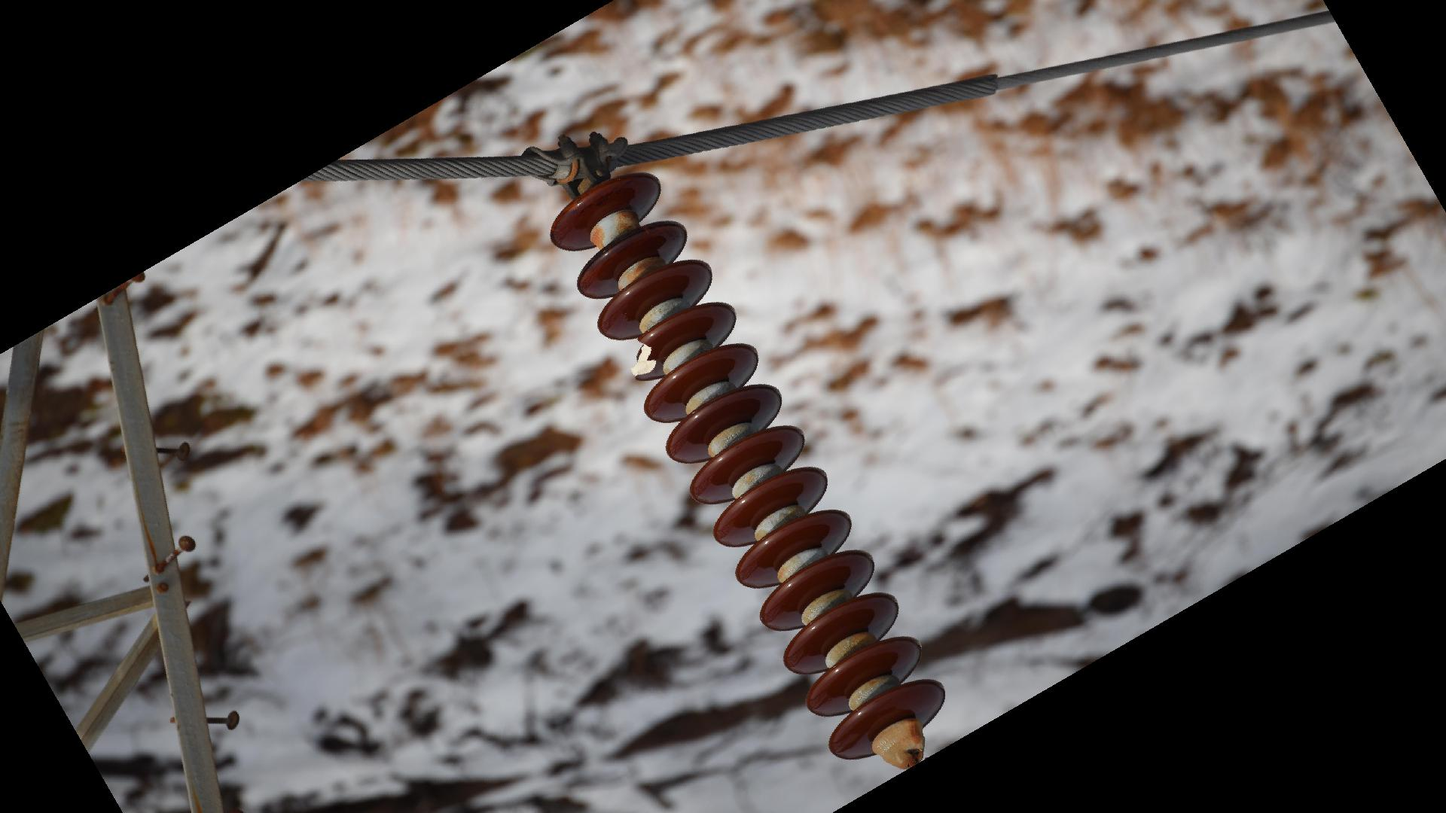insulator: (546, 168, 952, 767)
insulator_breakage: (627, 333, 661, 382)
